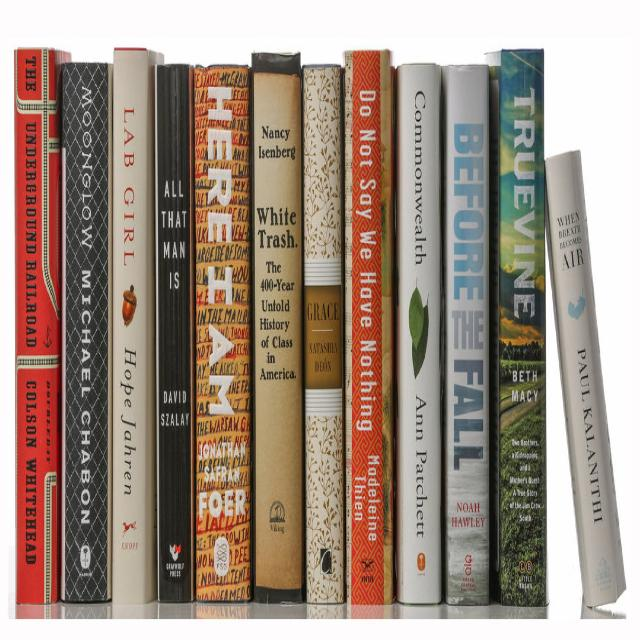Books: (545, 151, 626, 607), (488, 49, 548, 605), (14, 49, 70, 603), (194, 65, 251, 600), (251, 53, 304, 603), (112, 49, 164, 604), (61, 63, 112, 603), (345, 51, 394, 605), (442, 65, 489, 605), (396, 65, 441, 603), (155, 65, 195, 603), (302, 65, 342, 603)
